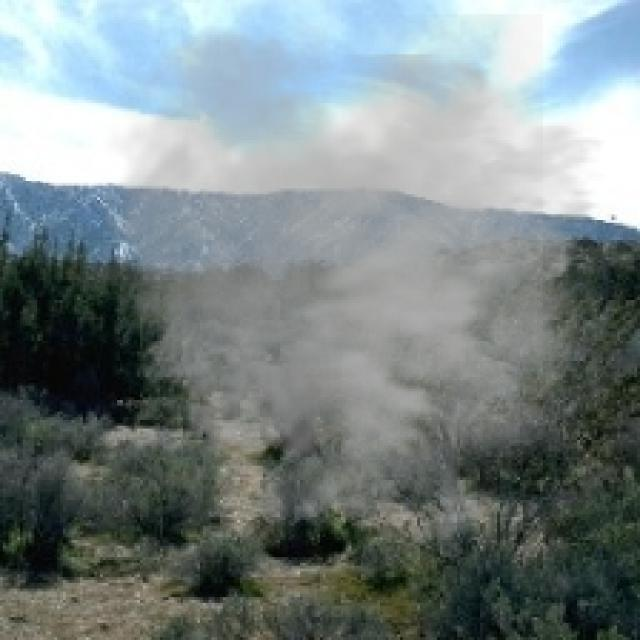Smoke: (82, 14, 638, 566)
